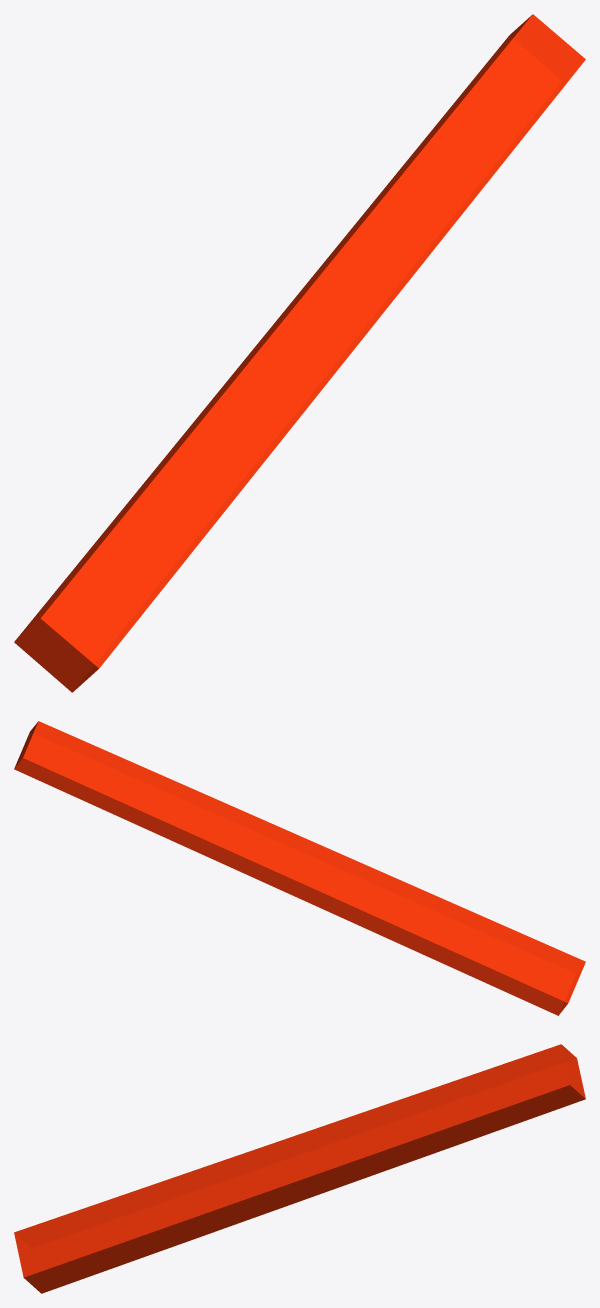
Rendered from Event_421115418_EBrechit_16.fbx.
The picture shows the model from 3 angles, top to bottom: view 1: azimuth 30°, elevation 25°; view 2: azimuth 150°, elevation 25°; view 3: azimuth 330°, elevation 25°; orthographic projection. The views are drawn at different scales.
Visible parts, largest first — view 1: Model; view 2: Model; view 3: Model.
Boxes of the visible parts, bbox=[...] form: Model: bbox=[14, 14, 585, 692]; Model: bbox=[14, 721, 585, 1015]; Model: bbox=[14, 1044, 585, 1293].
Bounding box in the file's own units: 0.6969 × 0.3949 × 0.3688.
